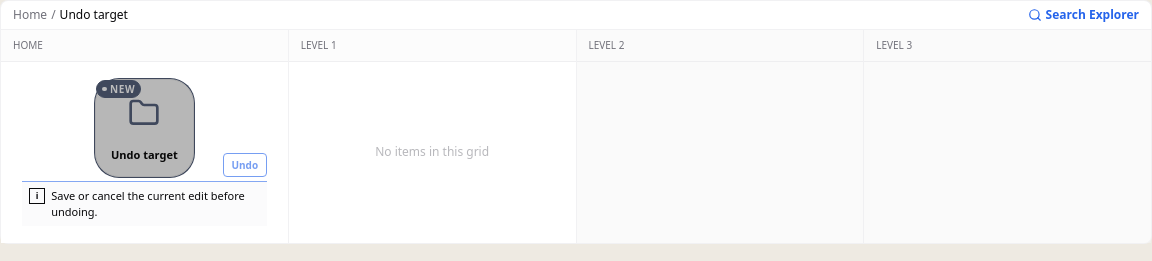
Test: HierarchyExplorer Task 156 ordinary-card Undo › blocks conflicted Edit intent while leaving pristine open Edit eligible
This screenshot has width=1152, height=261.
Click the button with aria-label "Undo placement of Undo target" at (245, 165), box [223,153,267,177]
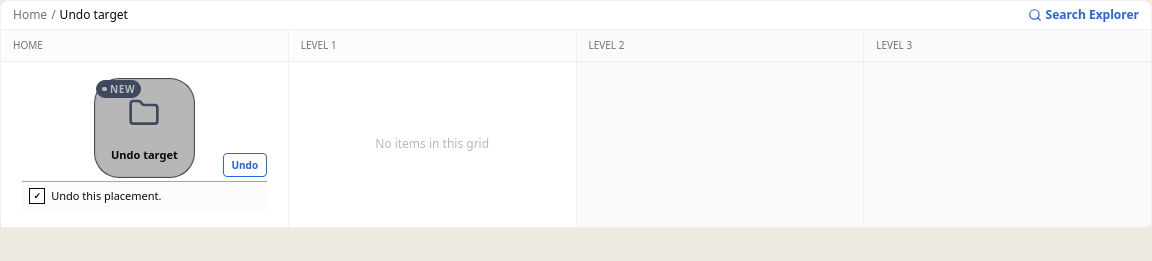
Expected: the button with aria-label "Undo placement of Undo target" is enabled, [223,153,267,177]
